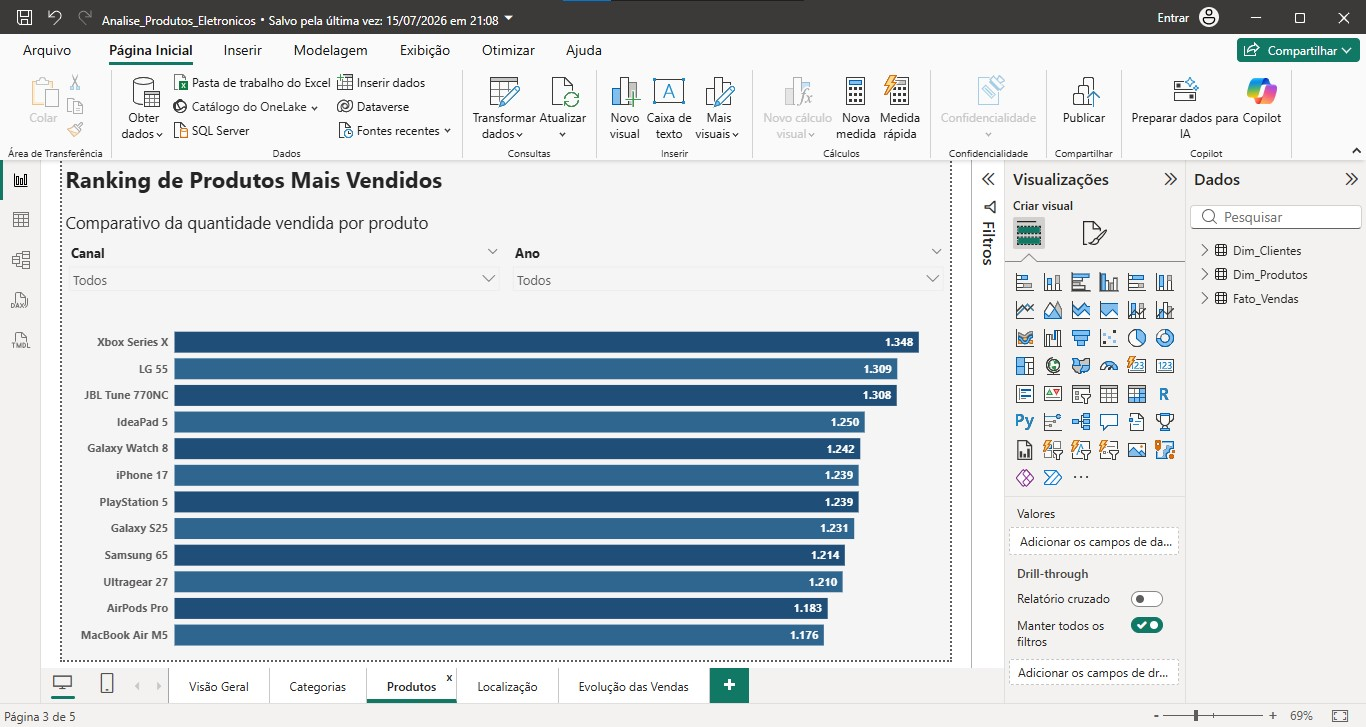

What the dashboard file says about the page in this screenshot:
{"tool":"powerbi","page":{"name":"Produtos","canvas":[1280,720],"ordinal":2},"visuals":[{"type":"barChart","title":"Top Produtos por Quantidade Vendida","fields":{"Category":["Dim_Produtos.Produto"],"Y":["Sum(Fato_Vendas.Quantidade)"]},"box":[0,201,917.5,518.6],"z":0},{"type":"textbox","box":[0,0,701.4,67.1],"z":1000},{"type":"textbox","box":[0,67.1,574.3,48.6],"z":2000},{"type":"slicer","fields":{"Values":["Fato_Vendas.Canal_Venda"]},"box":[0,116.5,188.7,84.5],"z":3000},{"type":"slicer","fields":{"Values":["Fato_Vendas.Data_Venda.Variation.Hierarquia de datas.Ano"]},"box":[188.7,115.5,188.7,85.6],"z":4000}]}

Visuals, with their boxes on the page's 1280x720 design canvas (x1, y1, x2, y2). These are canvas units, not pixel positions in the 1366x727 screenshot, which may show the page scaled, cropped or inside an application window:
"Top Produtos por Quantidade Vendida" barChart: crop(0, 201, 918, 720)
textbox: crop(0, 0, 701, 67)
textbox: crop(0, 67, 574, 116)
slicer - Fato_Vendas.Canal_Venda: crop(0, 116, 189, 201)
slicer - Fato_Vendas.Data_Venda.Variation.Hierarquia de datas.Ano: crop(189, 116, 377, 201)
